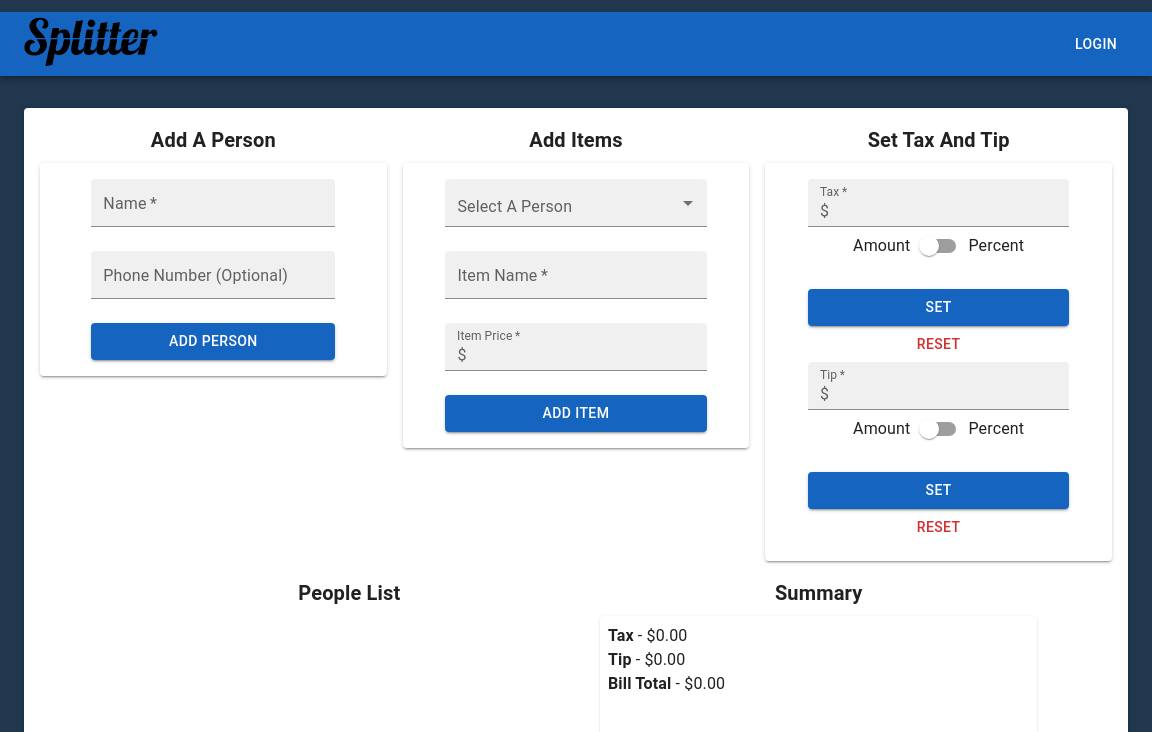
Scenario: Basic functionalities › Login › fails with incorrect credentials
This screenshot has width=1152, height=732.
Click the link with class "loginbutton" at (1096, 44), box [1075,36,1117,52]
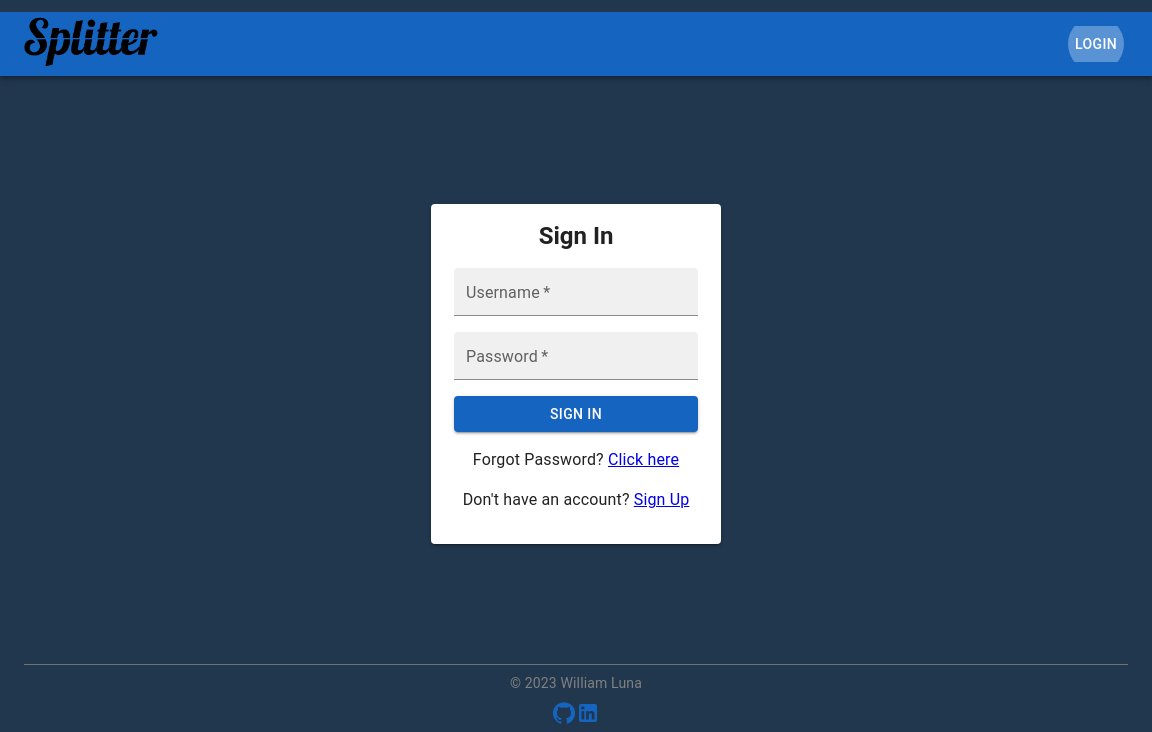
Type "wronguser" into the field with id "username" at (576, 292), box [454,268,698,316]
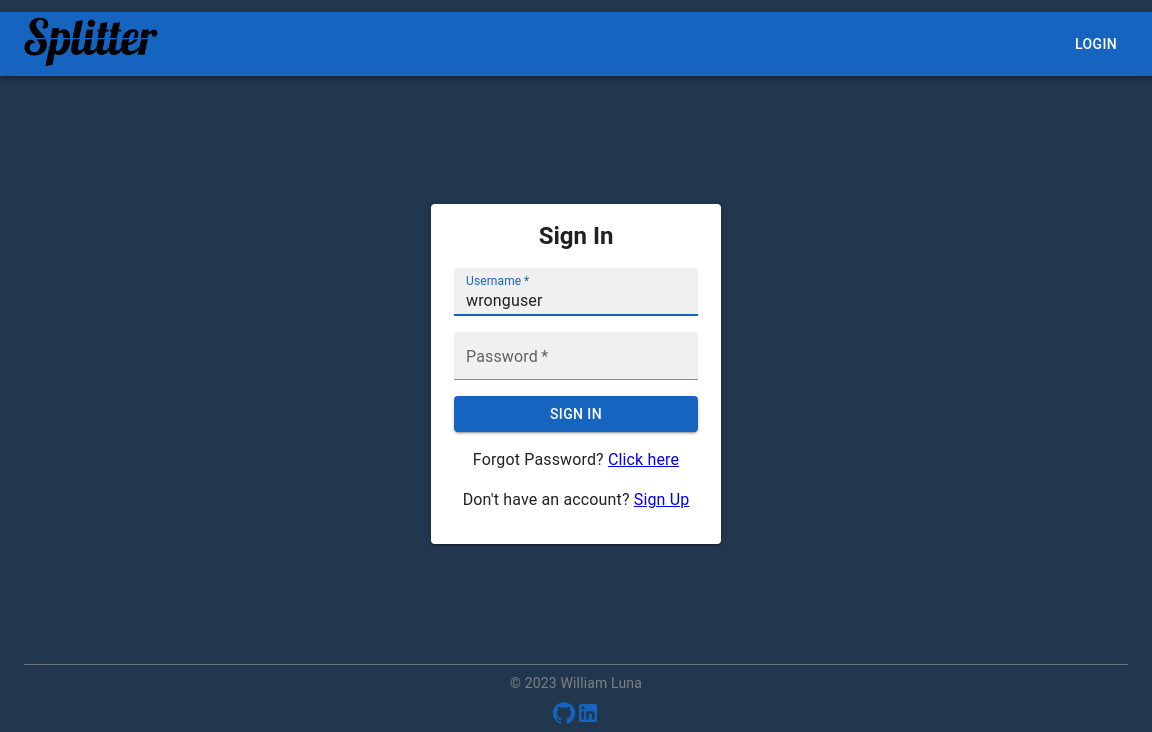
Type "wrongpw" into the password field labelled "Password *" at (576, 356), box [454,332,698,380]
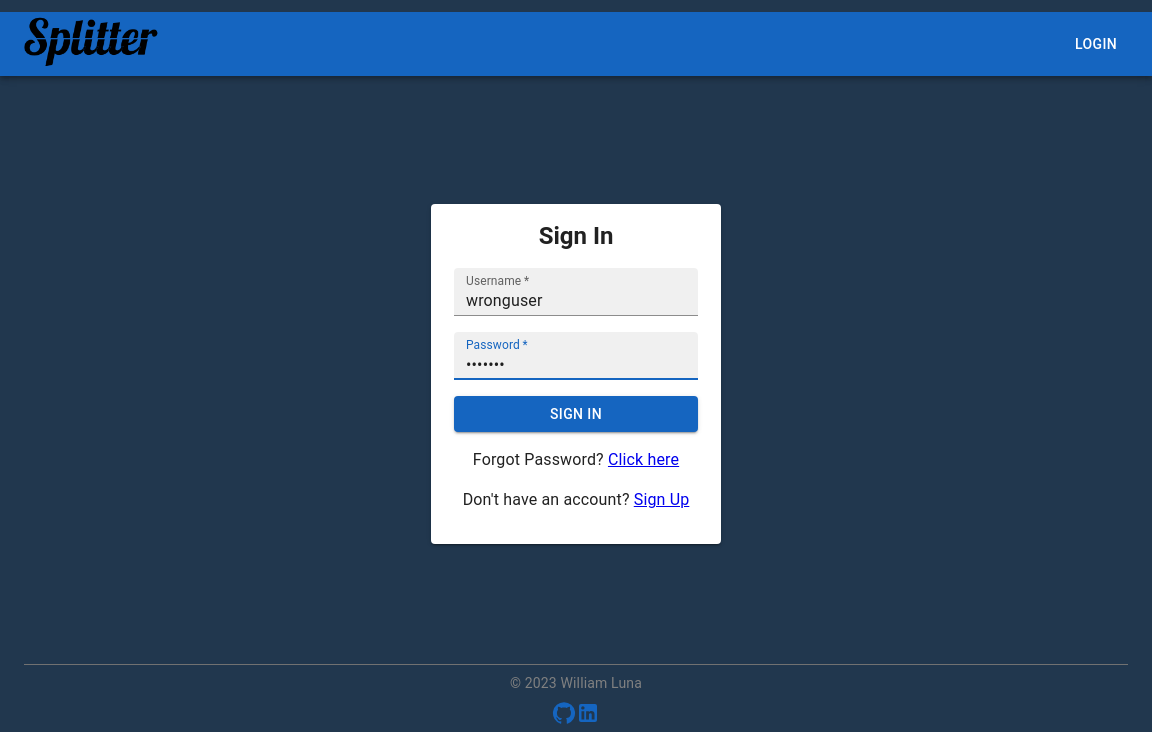
Click the button with id "submitlogin" at (576, 415), box [454,396,698,433]
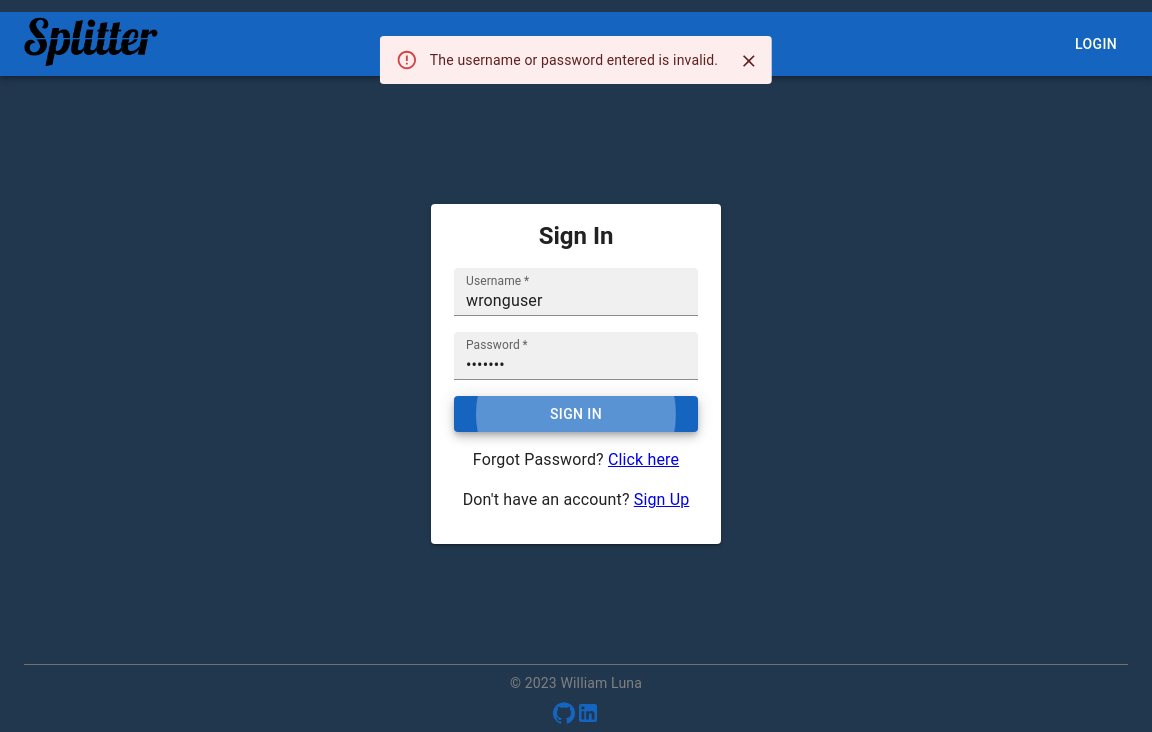
Expected: the element showing "The username or password entered is invalid." is shown, [380,36,772,84]
